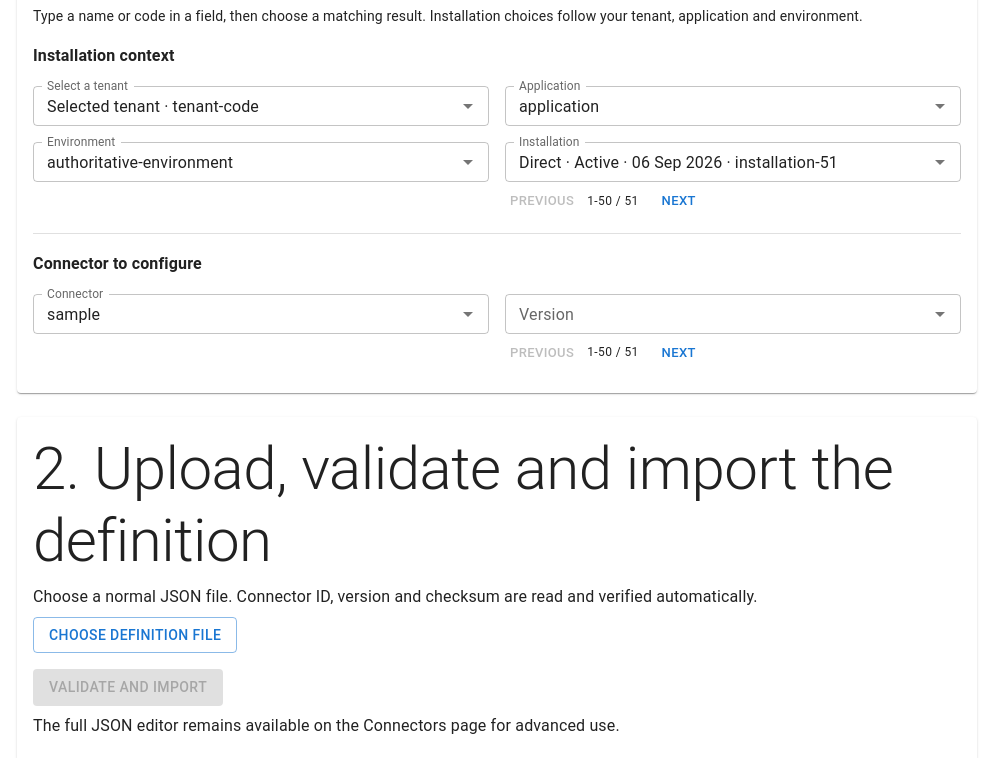
guided selection and targeted refresh › selects a version from page 2 and loads its definition through the point lookup
The width and height of the screenshot is (995, 758).
(page scrolled)
Click the 2nd button "Next" at (679, 353), box [647,338,711,369]
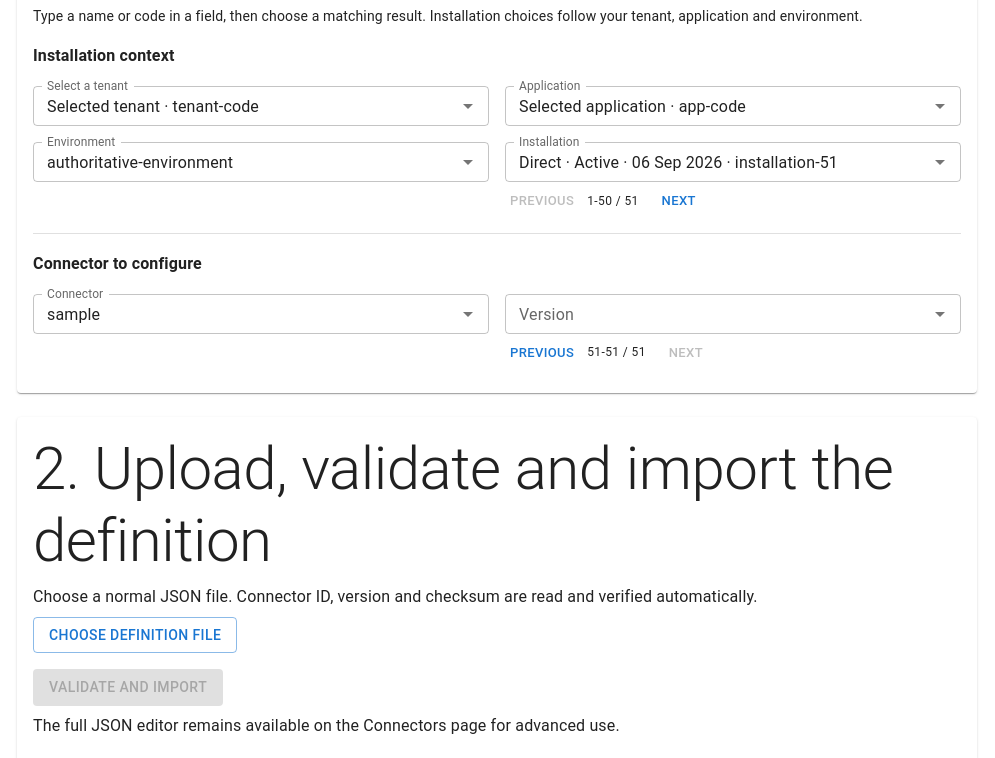
Check: the button "Previous" next to "51-51" is enabled, box [505,338,579,369]
Press the mouse on the dropdown labelled "Version" at (716, 314), box [511,300,922,328]
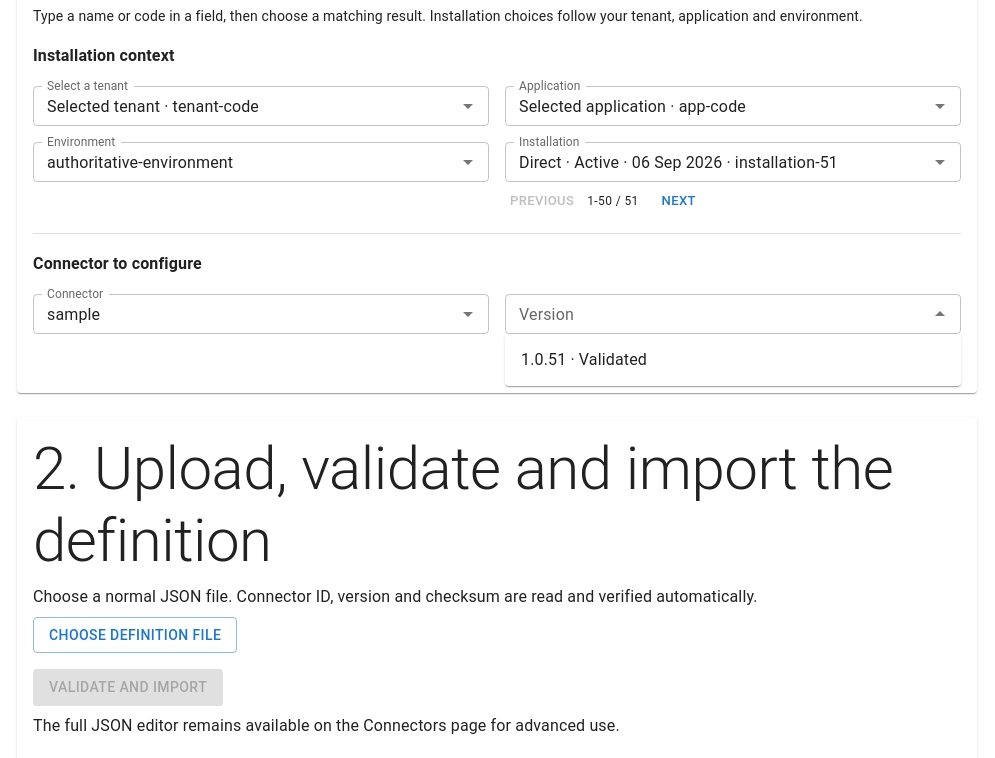
Click the option "1.0.51 · Validated" at (584, 360), box [521,350,647,369]
(page scrolled)
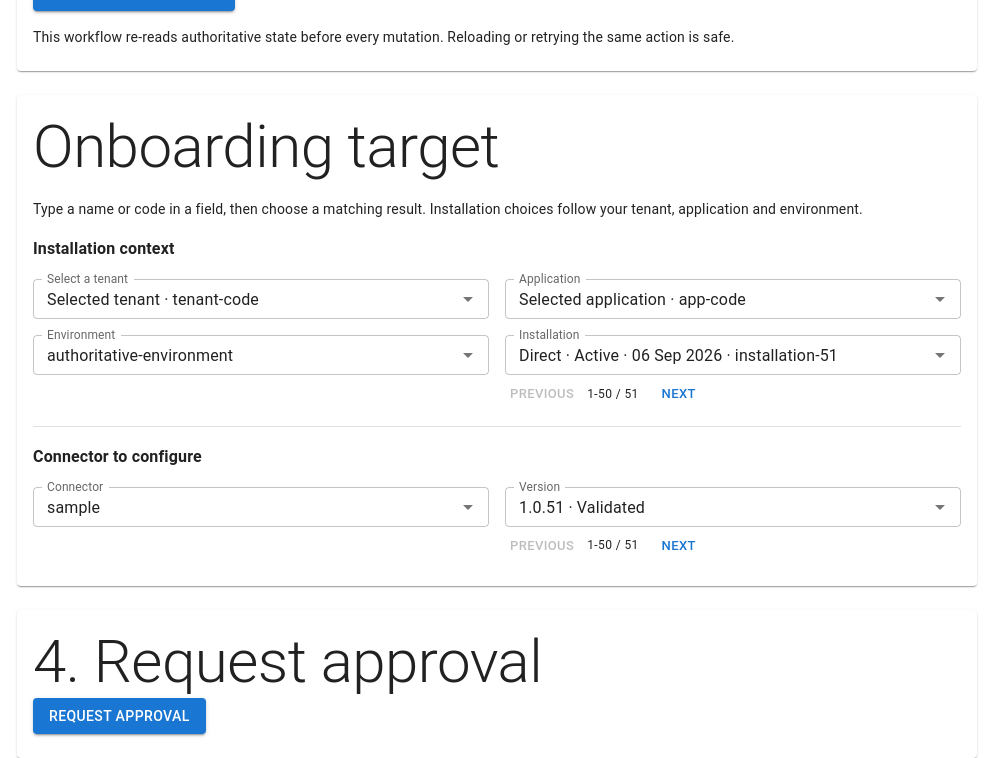
Check: the button "Request approval" is enabled, box [33,698,206,734]
